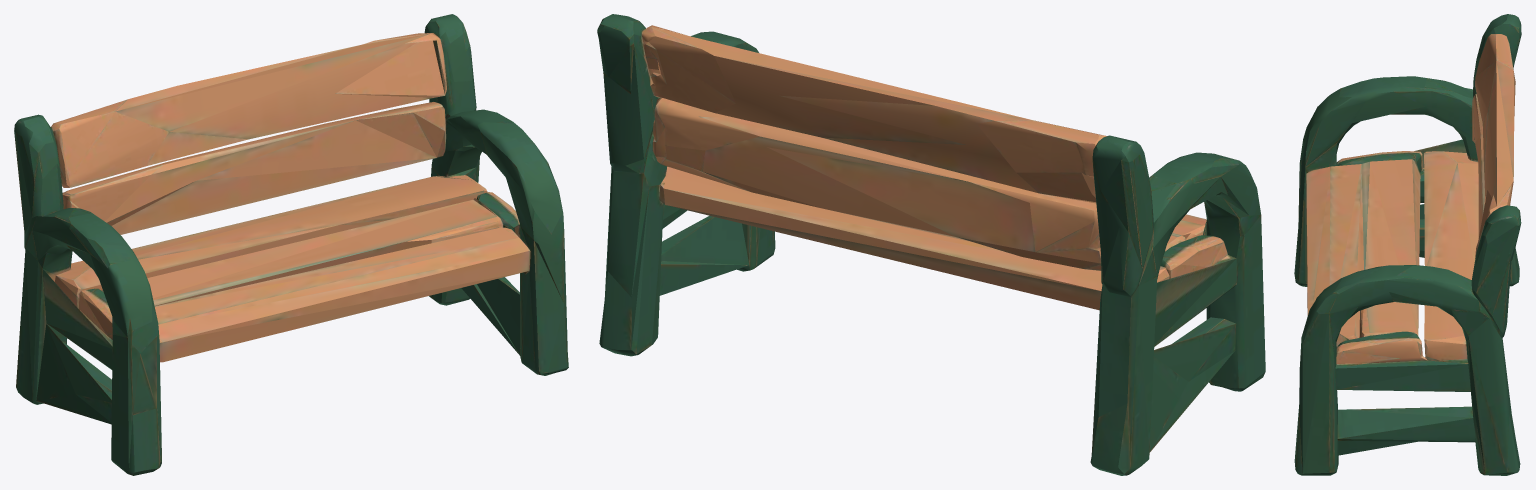
File: deco-bench.glb
The picture shows the model from 3 angles, left to right: view 1: azimuth 30°, elevation 25°; view 2: azimuth 150°, elevation 25°; view 3: azimuth 270°, elevation 25°; orthographic projection. The views are drawn at different scales.
Parts seen in each view (by area): view 1: deco-bench-fit; view 2: deco-bench-fit; view 3: deco-bench-fit.
Boxes of the visible parts, <box> form: deco-bench-fit: <box>14,14,568,475</box>; deco-bench-fit: <box>597,14,1265,475</box>; deco-bench-fit: <box>1294,14,1521,475</box>.
Bounding box in the file's own units: 1.8 × 1.09 × 0.8415.
1 material, 1 textured.
